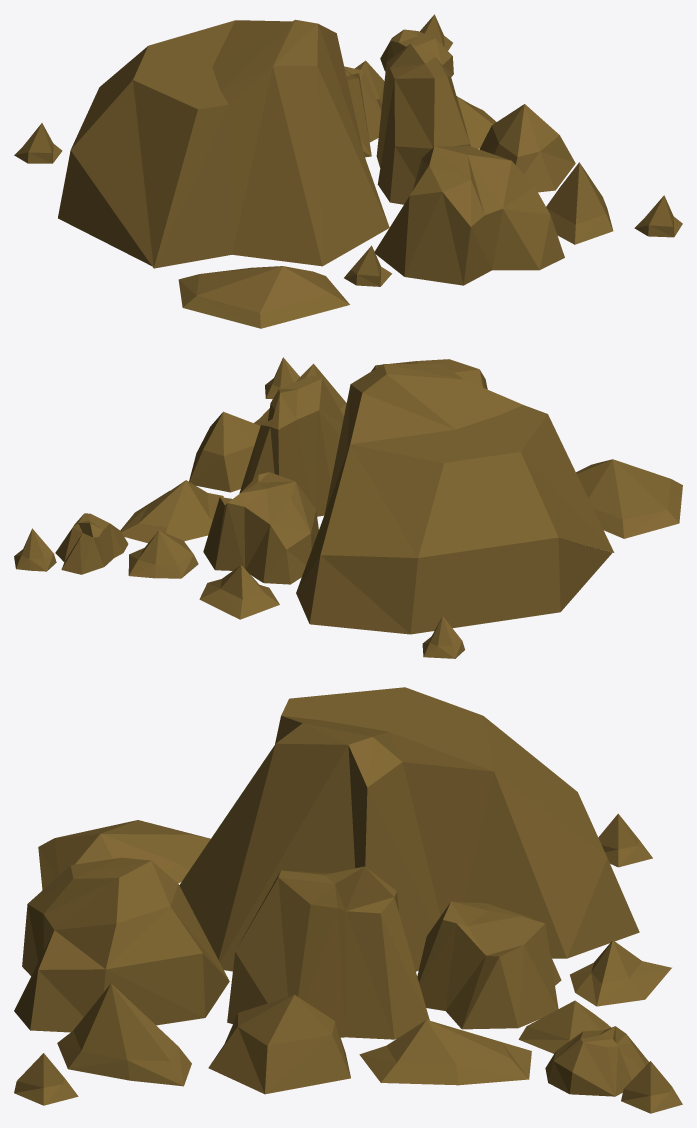
The model's file is obj_rock_pile_2_0.obj.
3 renders of one model, top to bottom at view 1: azimuth 30°, elevation 25°; view 2: azimuth 150°, elevation 25°; view 3: azimuth 270°, elevation 25°, orthographic. The views are drawn at different scales.
Size of the model in its own units: 1.99 by 0.6797 by 1.94.
